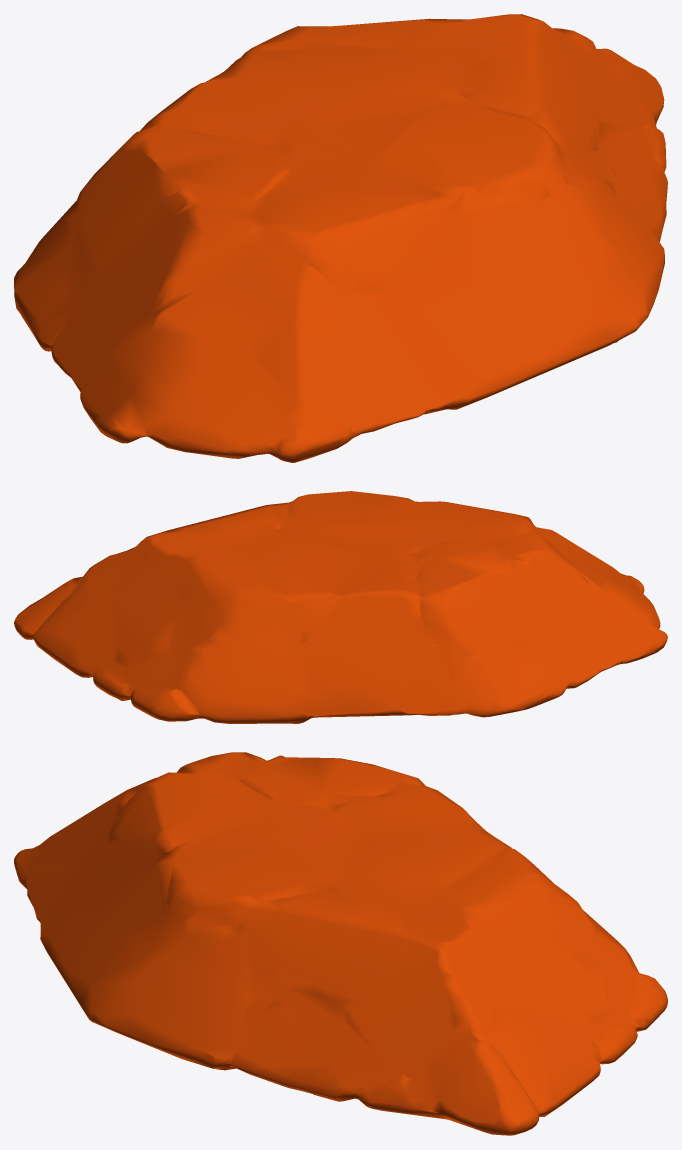
The picture shows the model from 3 angles, top to bottom: view 1: azimuth 30°, elevation 25°; view 2: azimuth 150°, elevation 25°; view 3: azimuth 270°, elevation 25°; orthographic projection. The views are drawn at different scales.
Visible parts, largest first — view 1: Mesh_47_LOD0; view 2: Mesh_47_LOD0; view 3: Mesh_47_LOD0.
Boxes of the visible parts, x1,y1,x2,y2 form: Mesh_47_LOD0: (14, 14, 667, 462); Mesh_47_LOD0: (14, 491, 667, 723); Mesh_47_LOD0: (14, 752, 667, 1135).
Size of what is drawn, in the model's own units: 4927 by 1015 by 4273.
